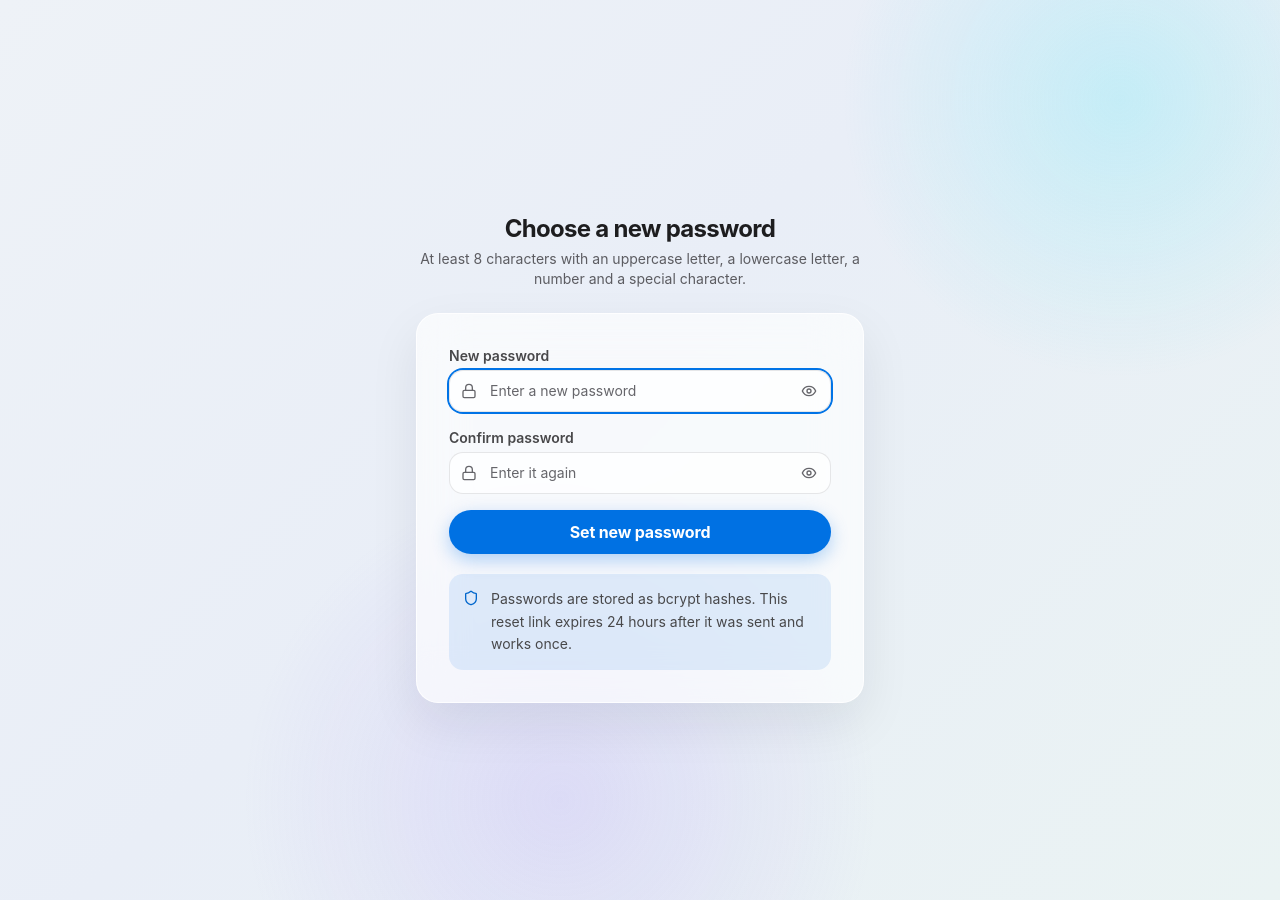
Test case: reset password page readability › renders no text below 14px on the form, before and after a submit with both fields empty
Click the button "Set new password". click: (640, 532)
box: [449,510,831,554]
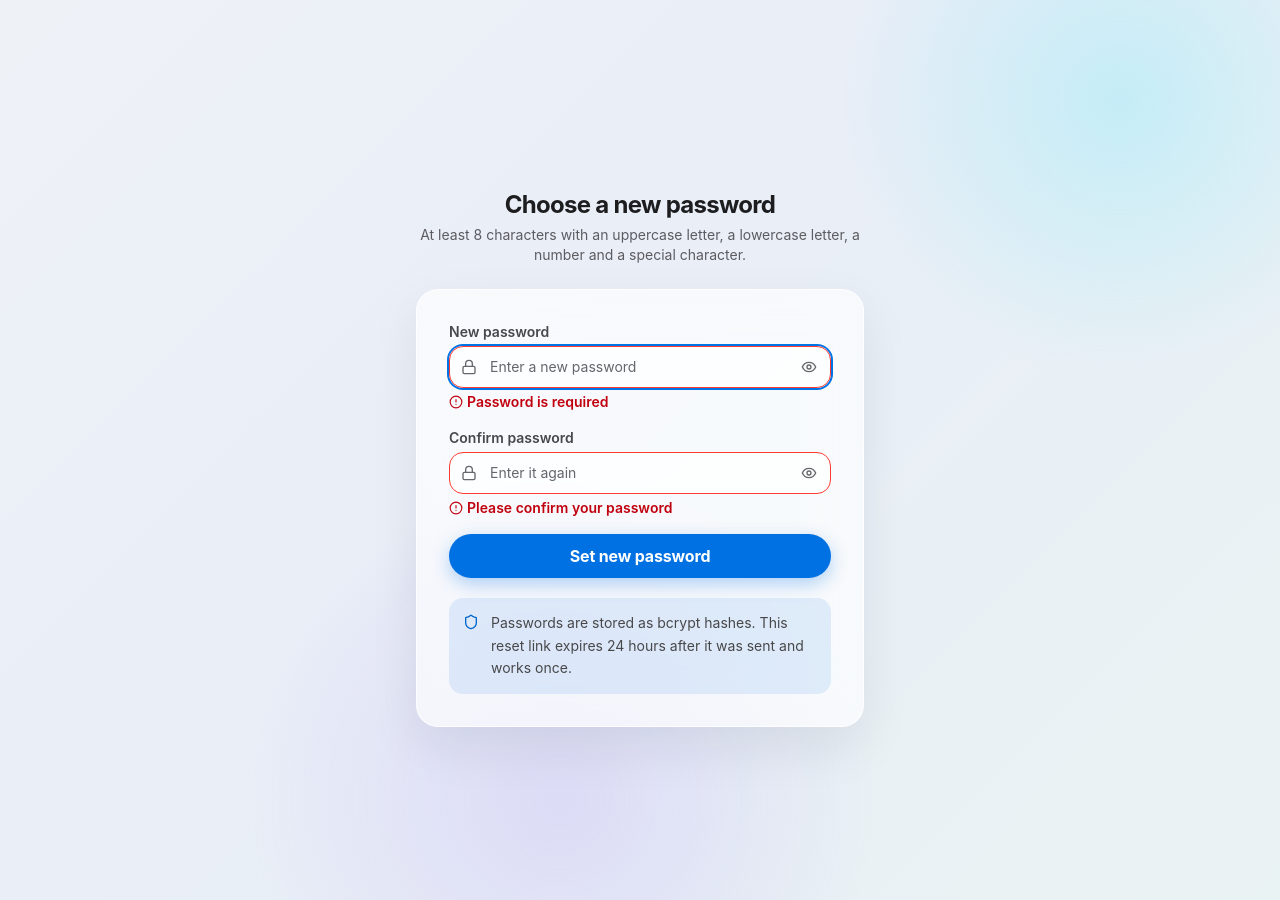
Expected: the text "Password is required" is shown, [449,393,609,410]
Expected: the text "Please confirm your password" is shown, [449,499,672,516]
